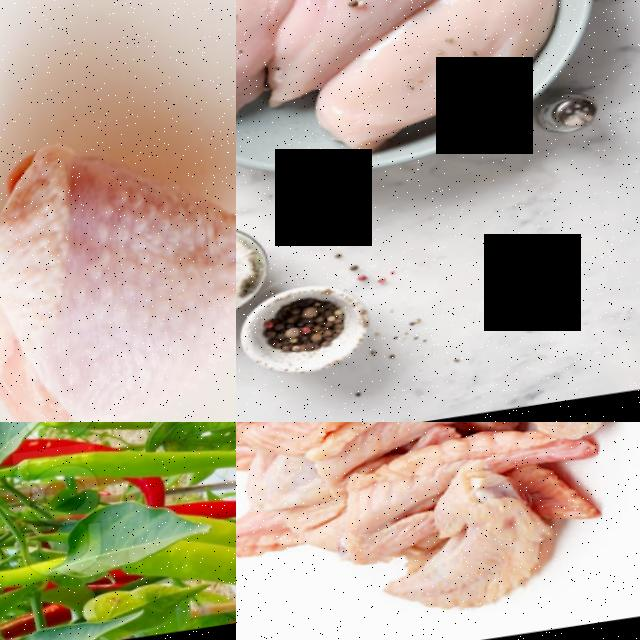chicken breast: (337, 0, 562, 186), (261, 0, 478, 60)
chicken thigh: (0, 83, 236, 422)
chilli: (12, 422, 236, 502), (46, 422, 193, 442)
